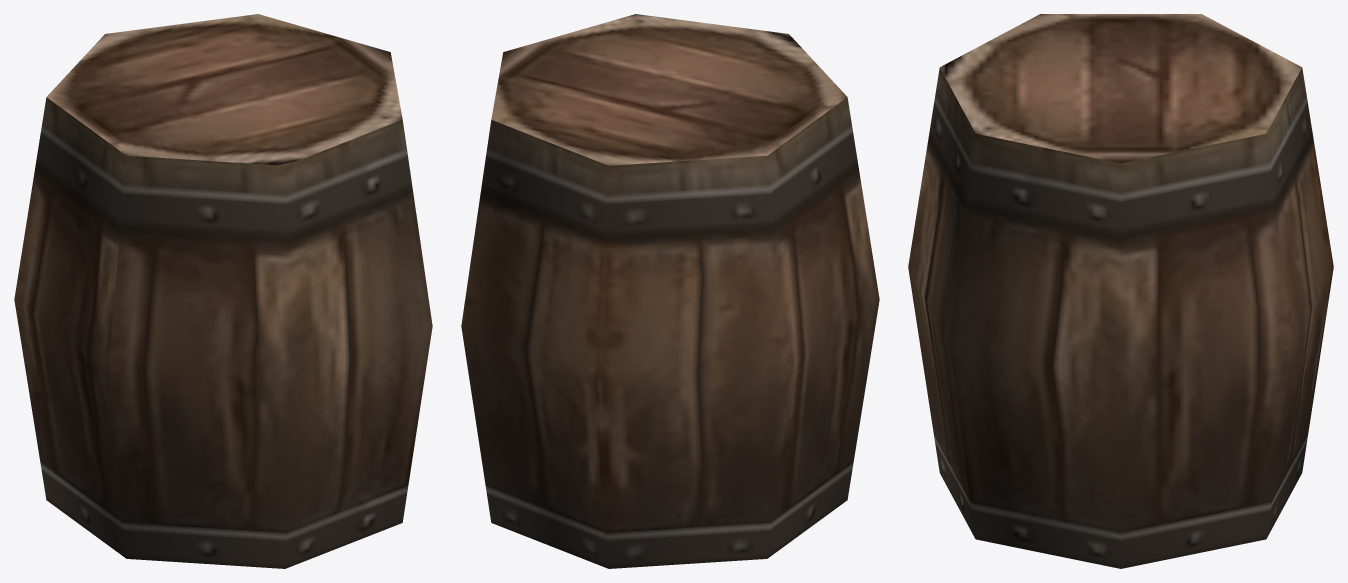
The model's file is SM_Town004_T.FBX.
3 renders of one model, left to right at view 1: azimuth 30°, elevation 25°; view 2: azimuth 150°, elevation 25°; view 3: azimuth 270°, elevation 25°, orthographic.
Visible parts, largest first — view 1: SM_Town004_T; view 2: SM_Town004_T; view 3: SM_Town004_T.
Boxes of the visible parts, x1,y1,x2,y2 form: SM_Town004_T: [14, 14, 432, 568]; SM_Town004_T: [461, 14, 879, 568]; SM_Town004_T: [908, 14, 1333, 568].
Bounding box in the file's own units: 93.79 × 101 × 96.2.
